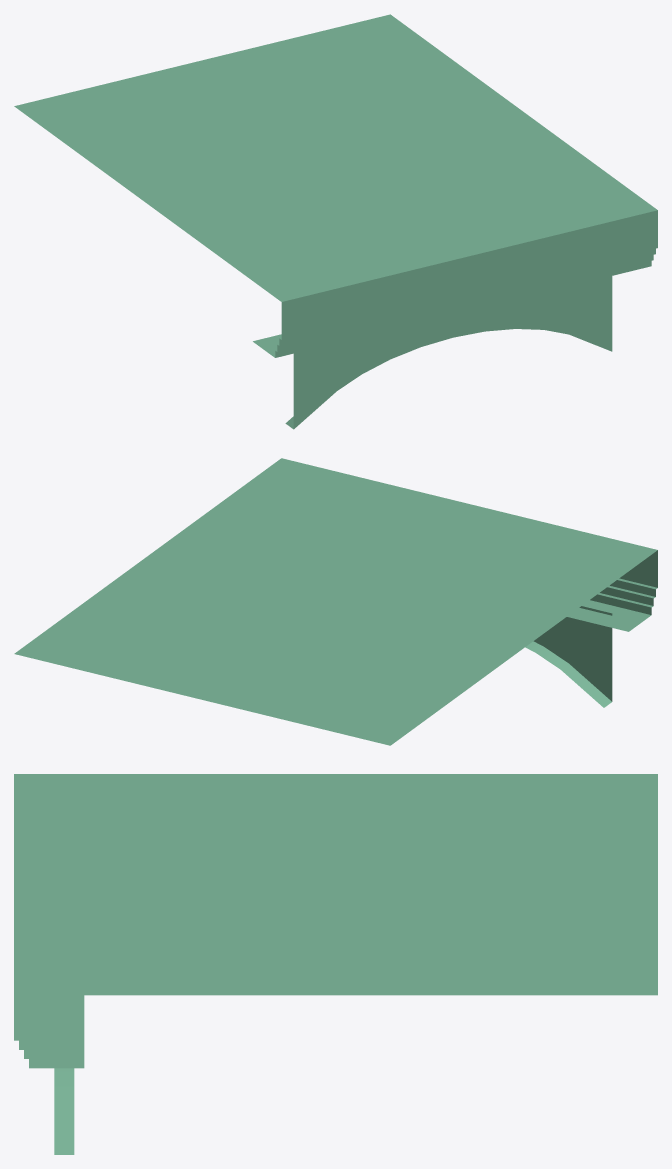
Rendered from object_B3_Top_floors_div.glb.
The picture shows the model from 3 angles, top to bottom: view 1: azimuth 30°, elevation 25°; view 2: azimuth 150°, elevation 25°; view 3: azimuth 270°, elevation 25°; orthographic projection. The views are drawn at different scales.
Visible parts, largest first — view 1: B3 Top floors div; view 2: B3 Top floors div; view 3: B3 Top floors div.
Boxes of the visible parts, x1,y1,x2,y2 form: B3 Top floors div: (14,14,657,429); B3 Top floors div: (14,458,657,745); B3 Top floors div: (14,774,657,1154).
Bounding box in the file's own units: 2.6 × 0.9688 × 3.2.
